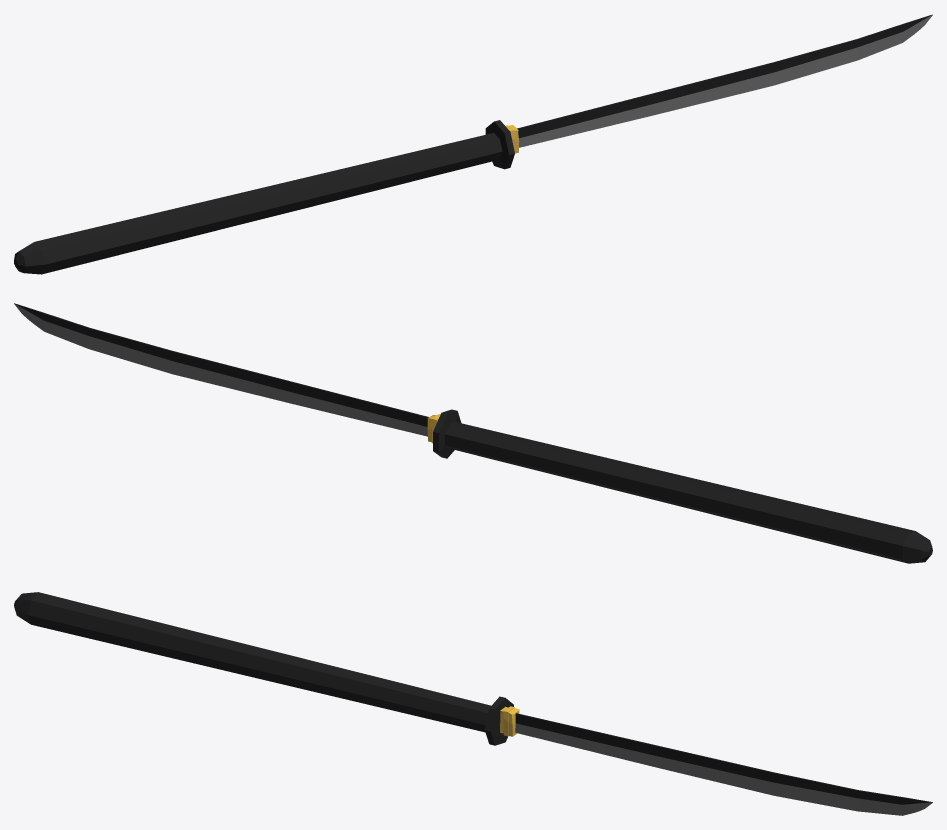
The model's file is Long Handle Blade.fbx.
The picture shows the model from 3 angles, top to bottom: view 1: azimuth 30°, elevation 25°; view 2: azimuth 150°, elevation 25°; view 3: azimuth 330°, elevation 25°; orthographic projection.
Visible parts, largest first — view 1: Nagamaki; view 2: Nagamaki; view 3: Nagamaki.
Part boxes in pixels (x1,y1,x2,y2): Nagamaki: [14, 14, 932, 274]; Nagamaki: [14, 303, 932, 563]; Nagamaki: [14, 592, 932, 815].
Bounding box in the file's own units: 211 × 10.37 × 9.33.
